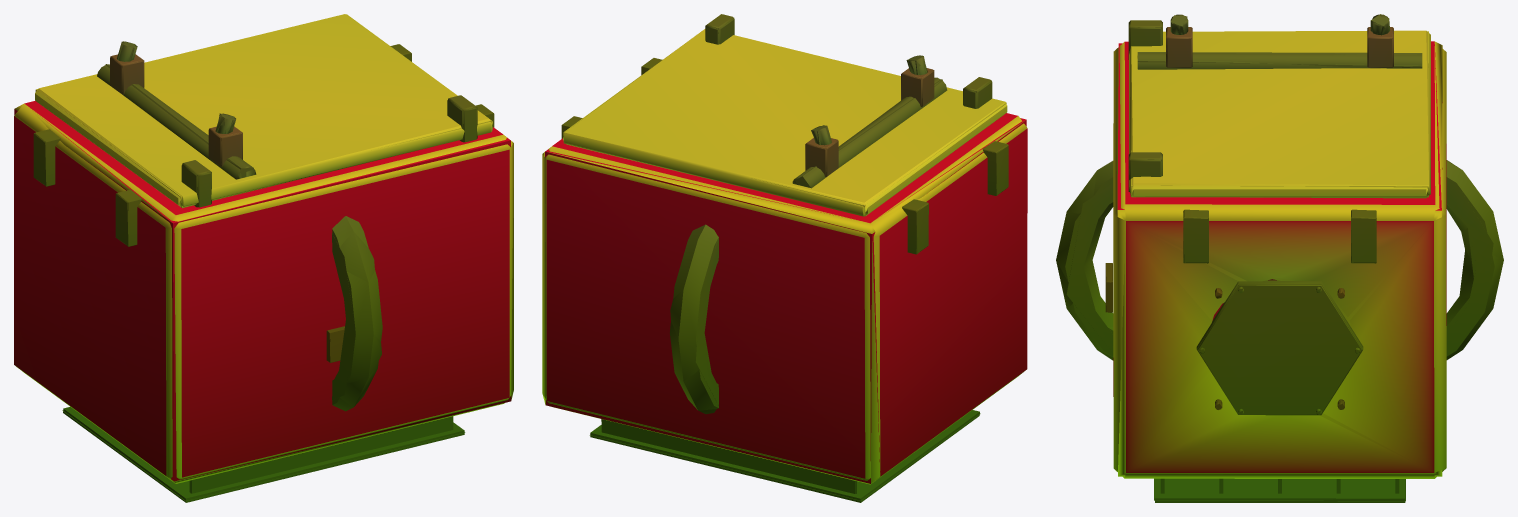
File: RCLModule_arc_lance_walker_plasma_arc_containment_LODs.fbx
3 views of the same model, side by side, from view 1: azimuth 30°, elevation 25°; view 2: azimuth 150°, elevation 25°; view 3: azimuth 270°, elevation 25° (orthographic). The views are drawn at different scales.
Parts seen in each view (by area): view 1: LOD1_RCLModule_arc_lance_walker_plasma_arc_containment_Batch (×3), LOD2_RCLModule_arc_lance_walker_plasma_arc_containment_Batch (×2); view 2: LOD1_RCLModule_arc_lance_walker_plasma_arc_containment_Batch (×3), LOD2_RCLModule_arc_lance_walker_plasma_arc_containment_Batch (×2); view 3: LOD1_RCLModule_arc_lance_walker_plasma_arc_containment_Batch (×3), LOD2_RCLModule_arc_lance_walker_plasma_arc_containment_Batch (×2).
Boxes of the visible parts, x1,y1,x2,y2 form: LOD1_RCLModule_arc_lance_walker_plasma_arc_containment_Batch (×3): (14, 14, 513, 502); LOD2_RCLModule_arc_lance_walker_plasma_arc_containment_Batch (×2): (14, 14, 513, 501); LOD1_RCLModule_arc_lance_walker_plasma_arc_containment_Batch (×3): (542, 14, 1027, 502); LOD2_RCLModule_arc_lance_walker_plasma_arc_containment_Batch (×2): (542, 17, 1026, 500); LOD1_RCLModule_arc_lance_walker_plasma_arc_containment_Batch (×3): (1056, 14, 1503, 502); LOD2_RCLModule_arc_lance_walker_plasma_arc_containment_Batch (×2): (1056, 14, 1503, 501).
Size of the model in its own units: 56.75 by 54.12 by 58.8.
